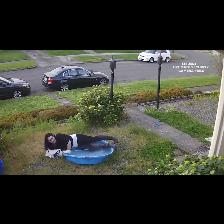person: (45, 133, 118, 150)
